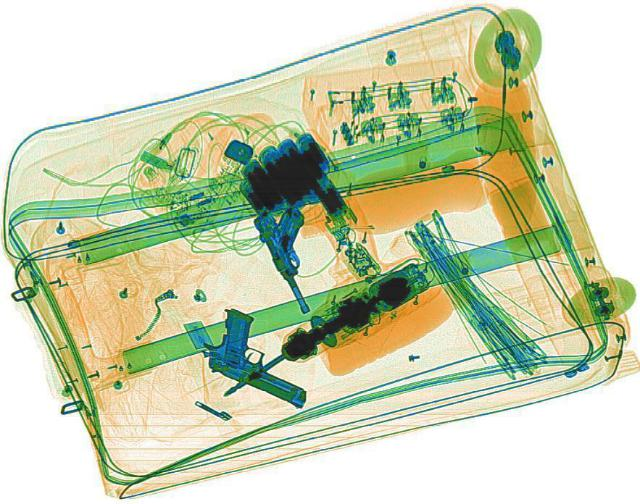Gun: (187, 301, 346, 406), (246, 202, 346, 314)
